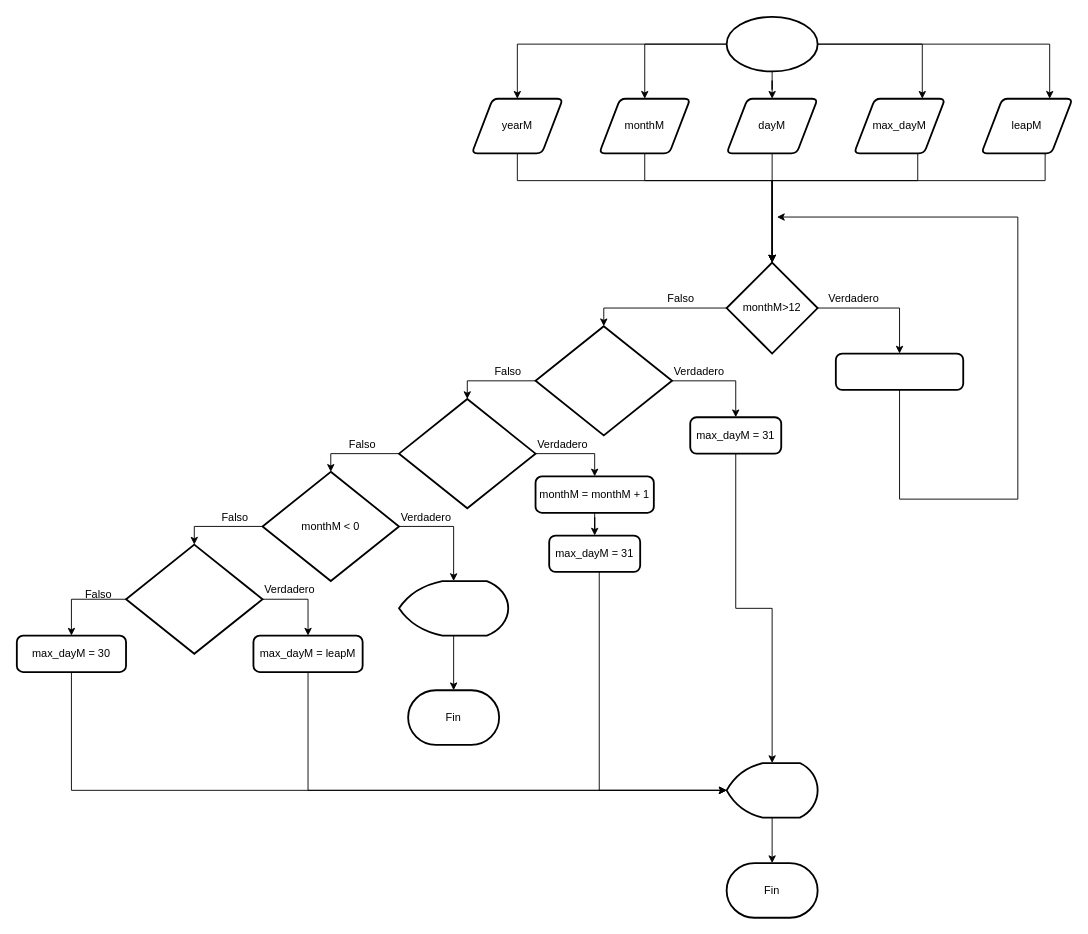
Image size: 1088x934. Some labels were removed from this diagram. The box of each missing label's shape, as (x1, y1, x2, y2) in pixels:
(monthM%2 ≠ 0) or (monthM = 8) or (monthM = 12): (534, 325, 672, 436)
Función daySet: (725, 762, 818, 818)
Función ifMonthNegative: (398, 580, 509, 636)
Inicio (monthSet): (725, 15, 818, 72)
monthM = 0: (398, 398, 536, 509)
monthM = 2: (125, 543, 263, 654)
monthM = monthM - 1: (834, 352, 964, 390)
